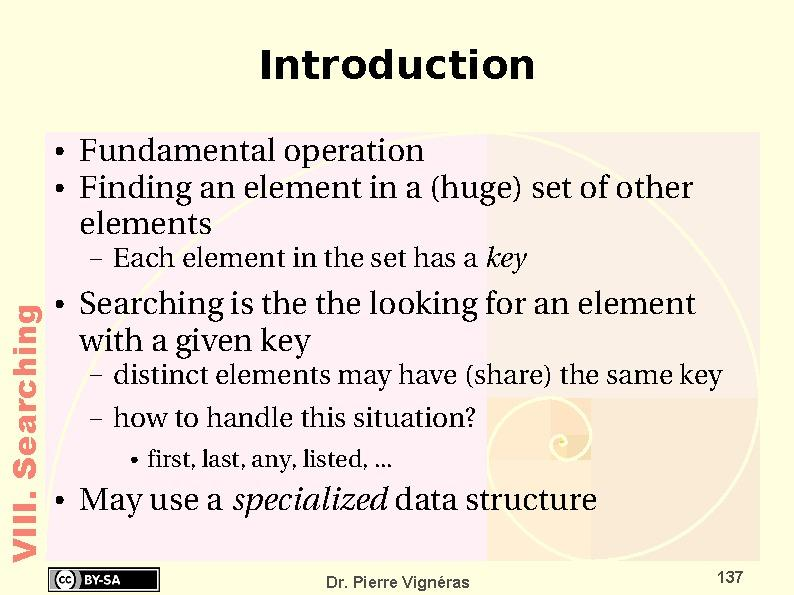paragraph: (41, 115, 748, 524)
title: (245, 36, 554, 96)
